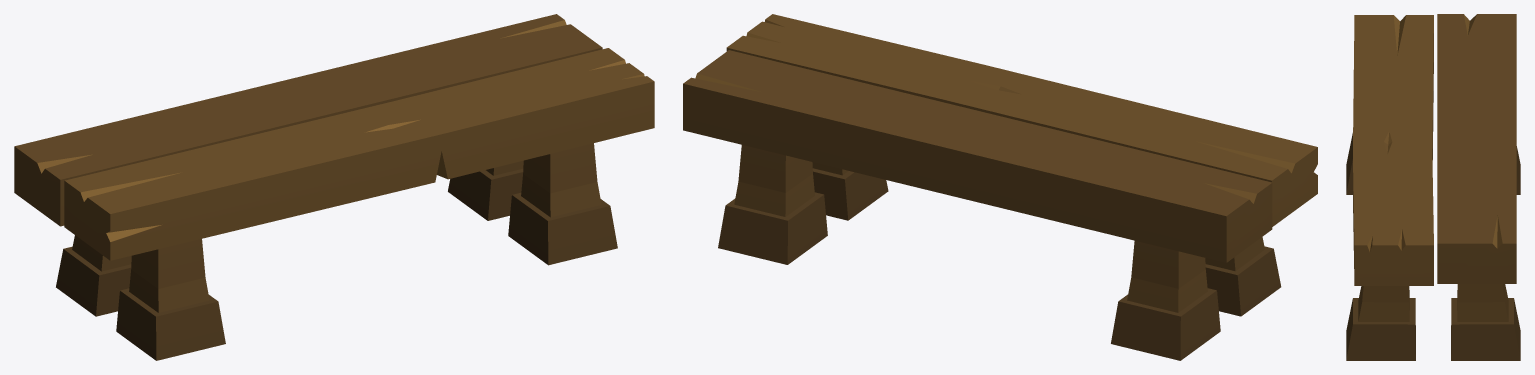
File: Bench.fbx
3 renders of one model, left to right at view 1: azimuth 30°, elevation 25°; view 2: azimuth 150°, elevation 25°; view 3: azimuth 270°, elevation 25°, orthographic. The views are drawn at different scales.
Parts seen in each view (by area): view 1: Bench; view 2: Bench; view 3: Bench.
Part boxes in pixels (x1=…): Bench: x1=14, y1=14, x2=654, y2=360; Bench: x1=683, y1=14, x2=1317, y2=360; Bench: x1=1346, y1=14, x2=1520, y2=360.
Size of the model in its own units: 174 by 46.61 by 55.43.
